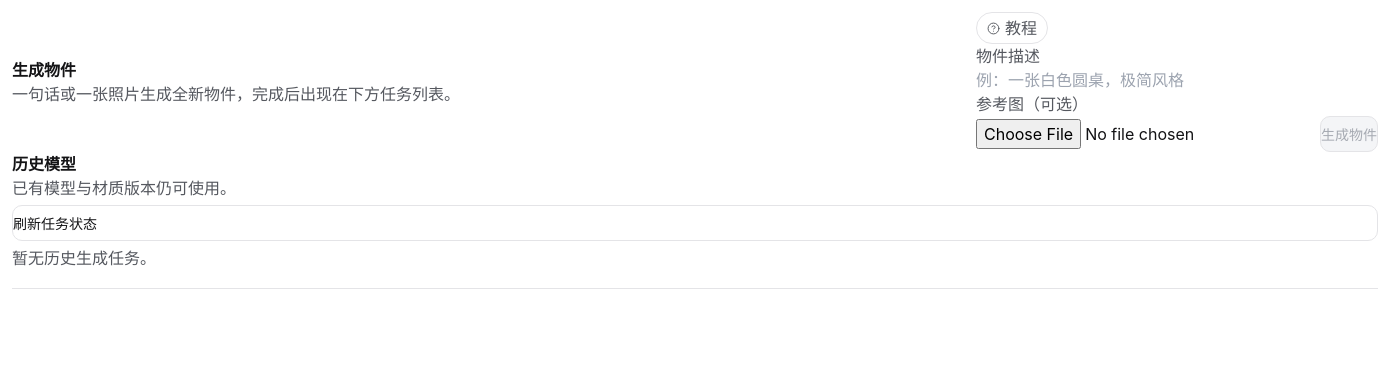
Test: Lux3D (Aholo) generation entry › surfaces a provider rejection without clearing the draft prompt
Type "一张白色圆桌" into the field labelled "物件描述". click: (1100, 80)
box: [976,68,1224,92]
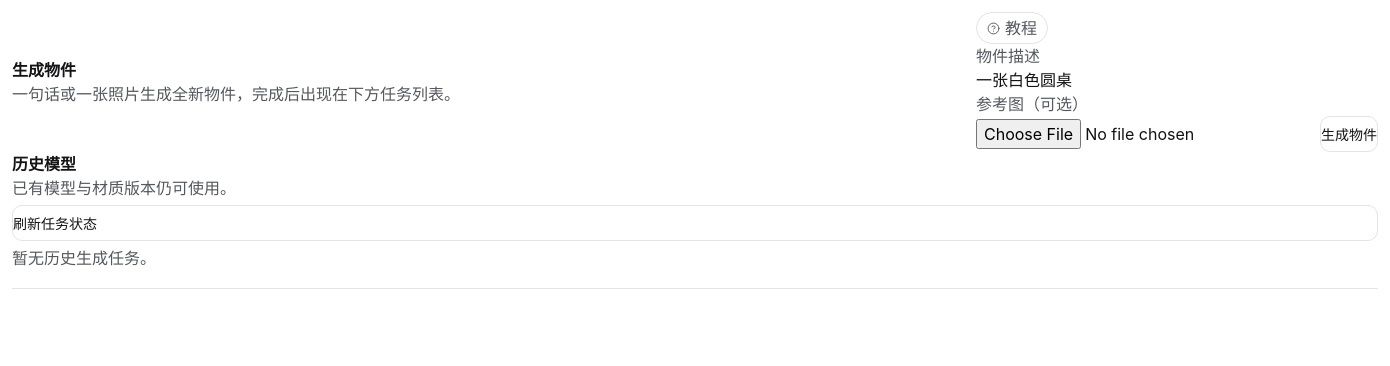
Click the button "生成物件". click: (1349, 134)
box: [1320,116,1378,152]
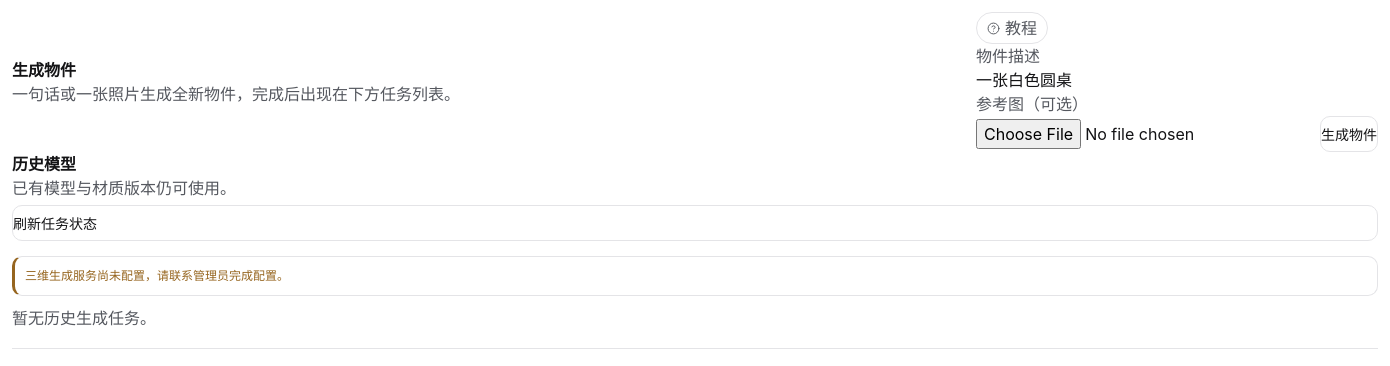
Expected: the message "三维生成服务尚未配置，请联系管理员完成配置。" is shown, [12,256,1378,296]
